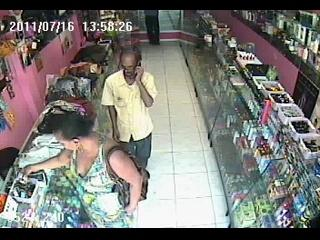Normal: (20, 102, 150, 227), (100, 46, 158, 170), (144, 10, 160, 46)
